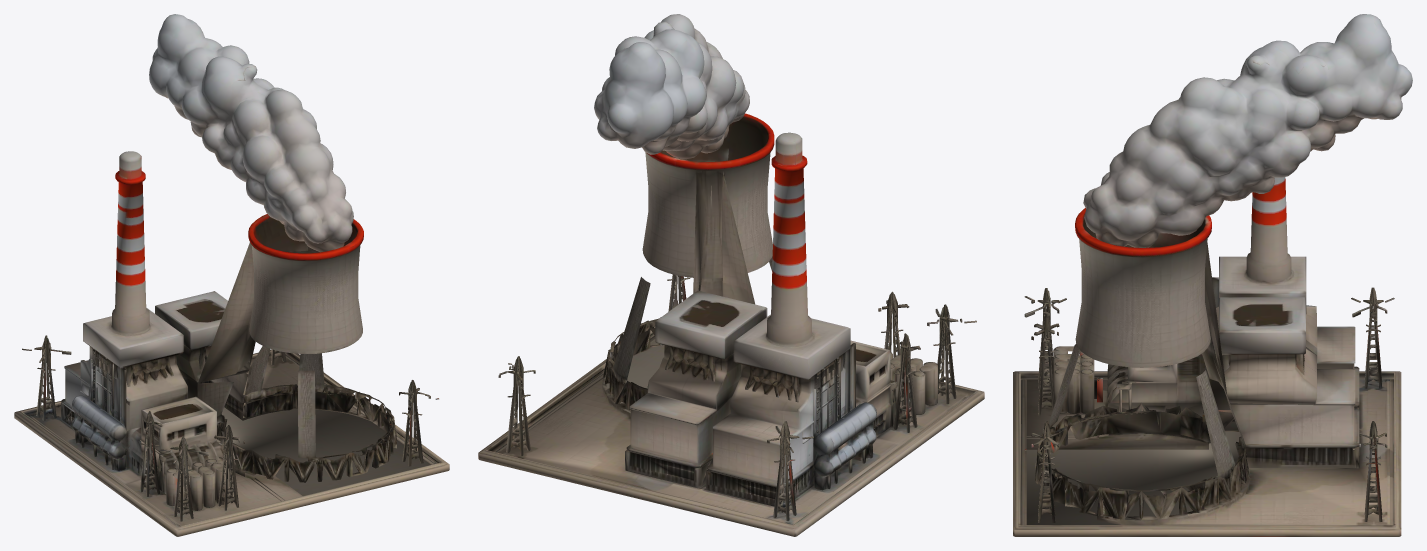
File: Industrial__a_power_plant_c03d3c1b_v3.cluster.glb
3 views of the same model, side by side, from view 1: azimuth 30°, elevation 25°; view 2: azimuth 150°, elevation 25°; view 3: azimuth 270°, elevation 25° (orthographic). The views are drawn at different scales.
Visible parts, largest first — view 1: material; view 2: material; view 3: material.
Part boxes in pixels (box(x1,y1,x2,y2)): material: box(14, 14, 449, 536); material: box(478, 14, 984, 536); material: box(1013, 14, 1412, 536).
Size of the model in its own units: 1.44 by 1.9 by 1.53.
1 material, 1 textured.
